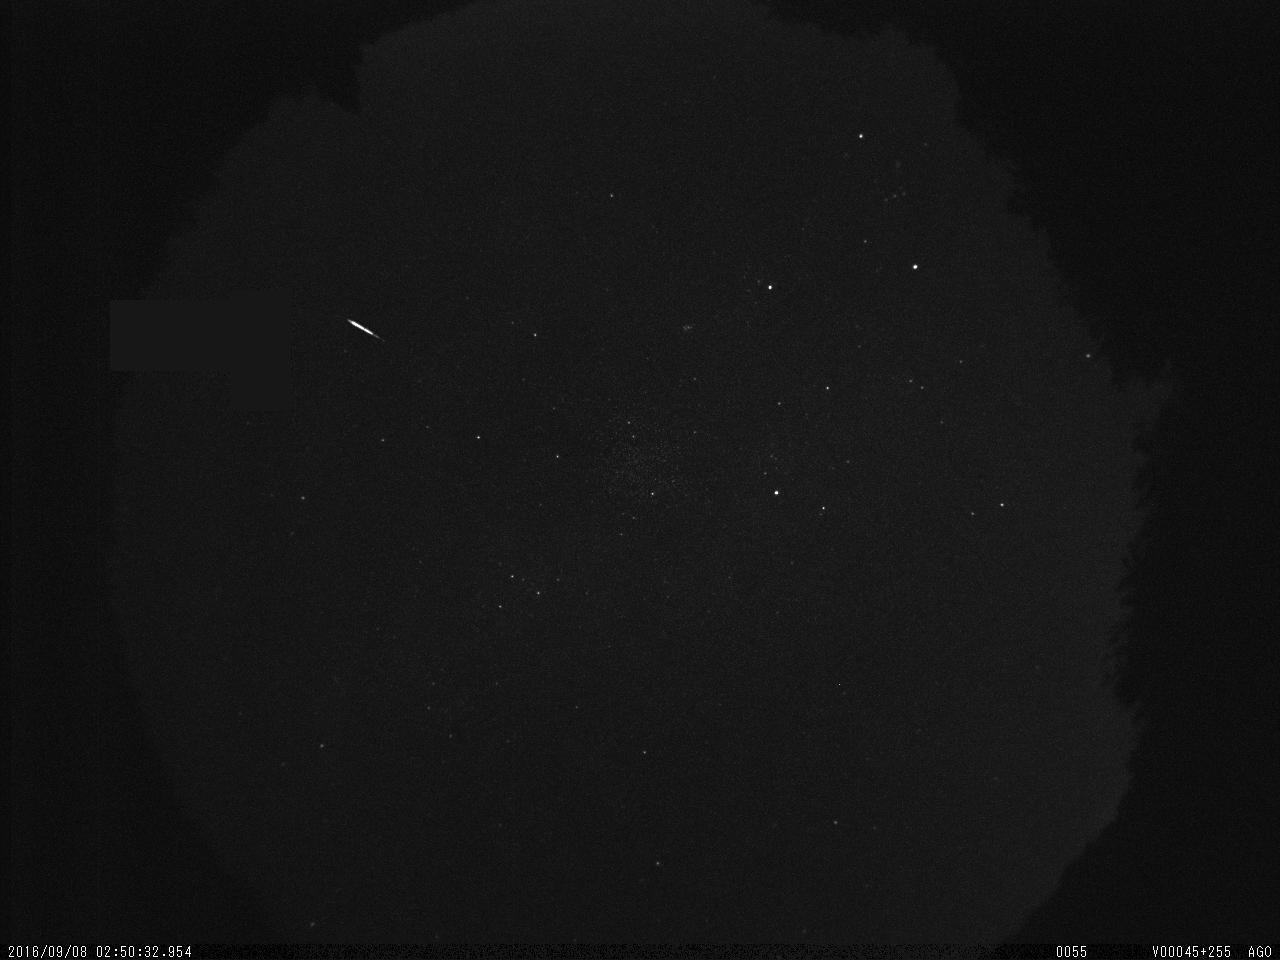Meteor: (340, 312, 390, 346)
